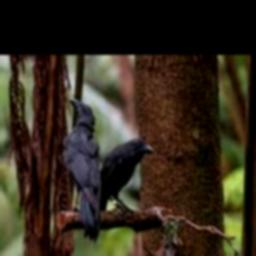Crow: (83, 138, 153, 243), (67, 98, 100, 240)
